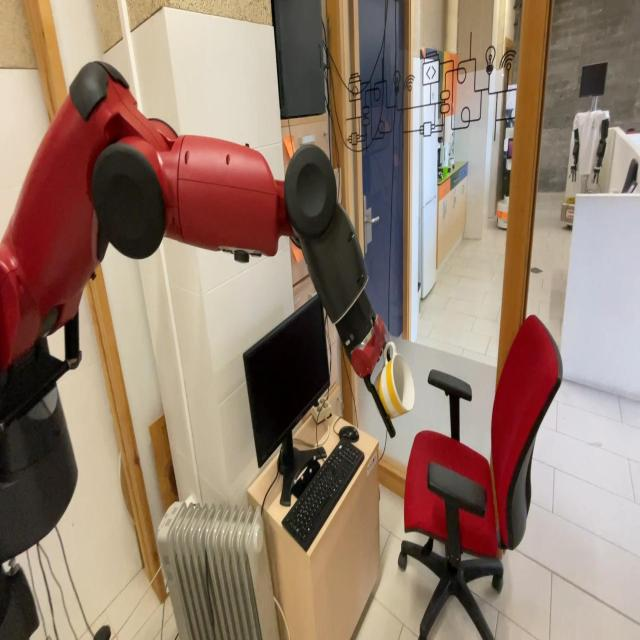cup: (369, 342, 417, 422)
